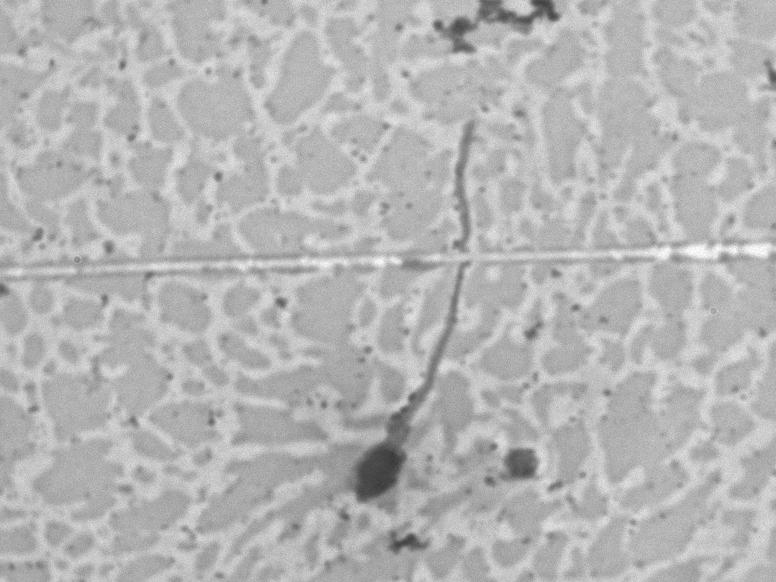Abnormal: (339, 102, 491, 528)
